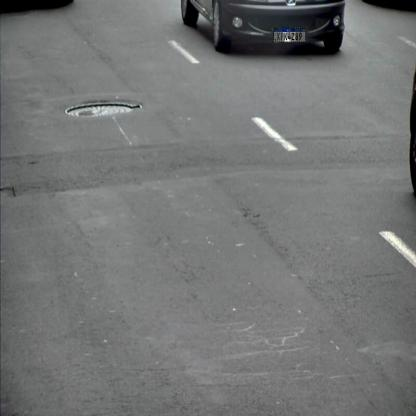PlacaM: (274, 28, 306, 42)
